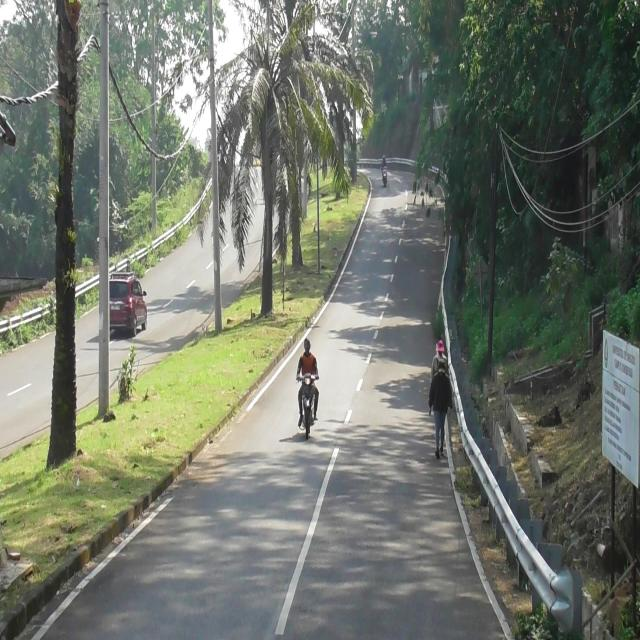motorcycle: (295, 371, 316, 439), (381, 168, 388, 185)
person: (297, 338, 318, 423), (380, 153, 388, 173)
rider_region: (297, 331, 319, 437), (379, 153, 389, 190)
